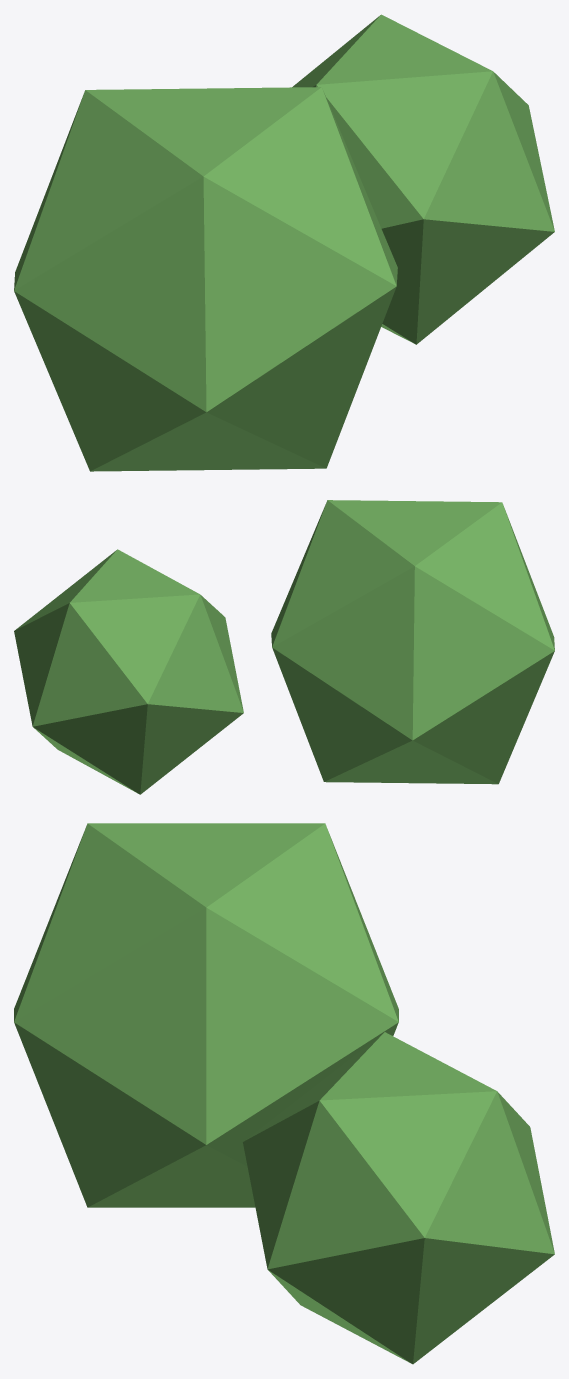
The model's file is Environment_Objects_Bushes_02.fbx.
3 views of the same model, one above another, from view 1: azimuth 30°, elevation 25°; view 2: azimuth 150°, elevation 25°; view 3: azimuth 270°, elevation 25° (orthographic). The views are drawn at different scales.
Visible parts, largest first — view 1: Environment_Objects_Bushes_02; view 2: Environment_Objects_Bushes_02; view 3: Environment_Objects_Bushes_02.
Part boxes in pixels (bbox=[...]): Environment_Objects_Bushes_02: bbox=[14, 14, 554, 471]; Environment_Objects_Bushes_02: bbox=[14, 500, 554, 794]; Environment_Objects_Bushes_02: bbox=[14, 823, 554, 1364].
Size of the model in its own units: 139 by 69.97 by 104.
